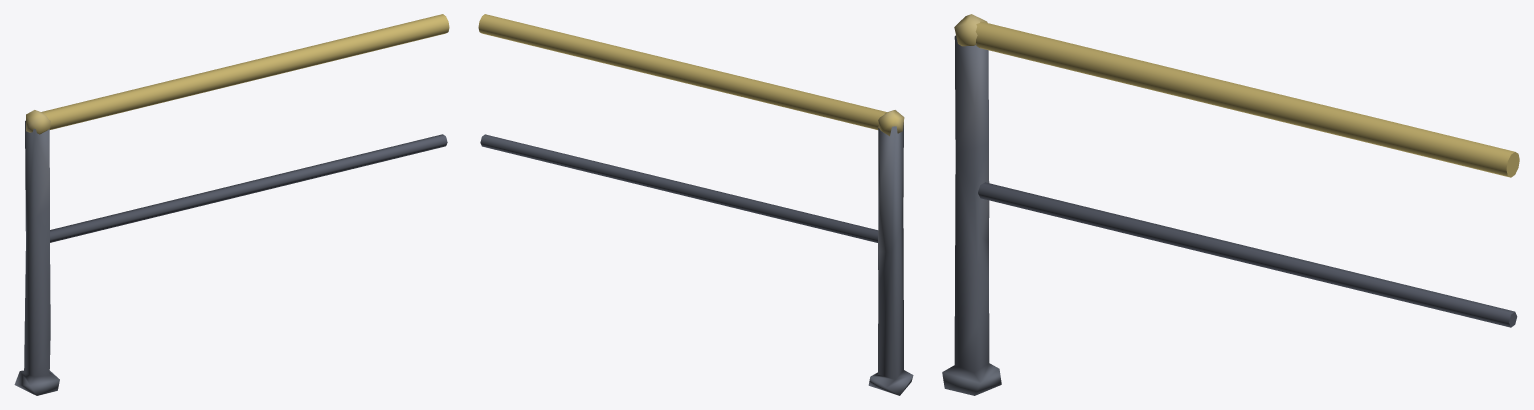
File: bay_rail.glb
3 renders of one model, left to right at view 1: azimuth 30°, elevation 25°; view 2: azimuth 150°, elevation 25°; view 3: azimuth 330°, elevation 25°, orthographic. The views are drawn at different scales.
Visible parts, largest first — view 1: rail; view 2: rail; view 3: rail.
Part boxes in pixels (left/top/right/bottom): rail: left=14, top=14, right=449, bottom=395; rail: left=478, top=14, right=913, bottom=395; rail: left=942, top=14, right=1519, bottom=395.
Size of the model in its own units: 1.56 by 0.9736 by 0.1342.
